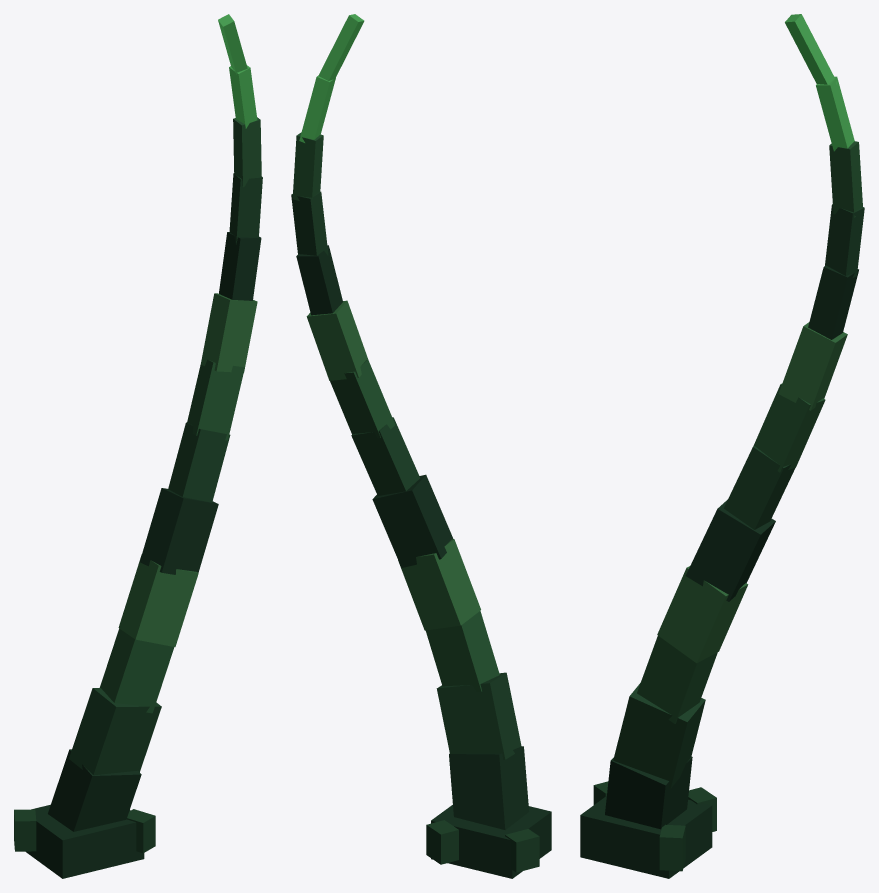
File: tentacle.glb
3 renders of one model, left to right at view 1: azimuth 30°, elevation 25°; view 2: azimuth 150°, elevation 25°; view 3: azimuth 330°, elevation 25°, orthographic. The views are drawn at different scales.
Visible parts, largest first — view 1: Tentacle Segment 02, Tentacle Root, Tentacle Segment 04, Tentacle Segment 05, Tentacle Segment 01, Tentacle Segment 03, Tentacle Segment 06, Tentacle Segment 08, Tentacle Segment 07, Tentacle Segment 09, Tentacle Segment 10, Tentacle Segment 11 (+4 smaller); view 2: Tentacle Segment 01, Tentacle Segment 02, Tentacle Segment 04, Tentacle Segment 05, Tentacle Root, Tentacle Segment 03, Tentacle Segment 06, Tentacle Segment 08, Tentacle Segment 07, Tentacle Segment 09, Tentacle Segment 10, Tentacle Segment 11 (+4 smaller); view 3: Tentacle Root, Tentacle Segment 02, Tentacle Segment 04, Tentacle Segment 05, Tentacle Segment 01, Tentacle Segment 03, Tentacle Segment 06, Tentacle Segment 08, Tentacle Segment 07, Tentacle Segment 09, Tentacle Segment 10, Tentacle Segment 11 (+3 smaller).
Boxes of the visible parts, x1,y1,x2,y2 form: Tentacle Segment 02: [69, 688, 161, 775]; Tentacle Root: [26, 804, 144, 878]; Tentacle Segment 04: [118, 554, 198, 646]; Tentacle Segment 05: [140, 488, 218, 574]; Tentacle Segment 01: [48, 749, 141, 831]; Tentacle Segment 03: [99, 628, 174, 713]; Tentacle Segment 06: [168, 422, 230, 502]; Tentacle Segment 08: [200, 293, 257, 372]; Tentacle Segment 07: [187, 359, 244, 440]; Tentacle Segment 09: [219, 232, 261, 300]; Tentacle Segment 10: [229, 173, 262, 244]; Tentacle Segment 11: [233, 117, 261, 186]; Tentacle Segment 01: [449, 746, 529, 829]; Tentacle Segment 02: [436, 672, 521, 759]; Tentacle Segment 04: [398, 539, 480, 630]; Tentacle Segment 05: [372, 474, 453, 567]; Tentacle Root: [431, 805, 551, 878]; Tentacle Segment 03: [426, 611, 499, 691]; Tentacle Segment 06: [351, 417, 419, 495]; Tentacle Segment 08: [306, 300, 368, 380]; Tentacle Segment 07: [330, 360, 395, 438]; Tentacle Segment 09: [296, 245, 342, 315]; Tentacle Segment 10: [291, 191, 328, 255]; Tentacle Segment 11: [292, 132, 323, 200]; Tentacle Root: [580, 796, 712, 878]; Tentacle Segment 02: [613, 683, 705, 788]; Tentacle Segment 04: [657, 566, 748, 663]; Tentacle Segment 05: [685, 499, 775, 601]; Tentacle Segment 01: [605, 756, 692, 829]; Tentacle Segment 03: [637, 636, 717, 723]; Tentacle Segment 06: [724, 446, 795, 529]; Tentacle Segment 08: [778, 322, 847, 410]; Tentacle Segment 07: [753, 383, 825, 472]; Tentacle Segment 09: [808, 265, 858, 339]; Tentacle Segment 10: [825, 204, 864, 277]; Tentacle Segment 11: [829, 141, 862, 217].
Bounding box in the file's own units: 1.86 × 5.84 × 0.7494.
